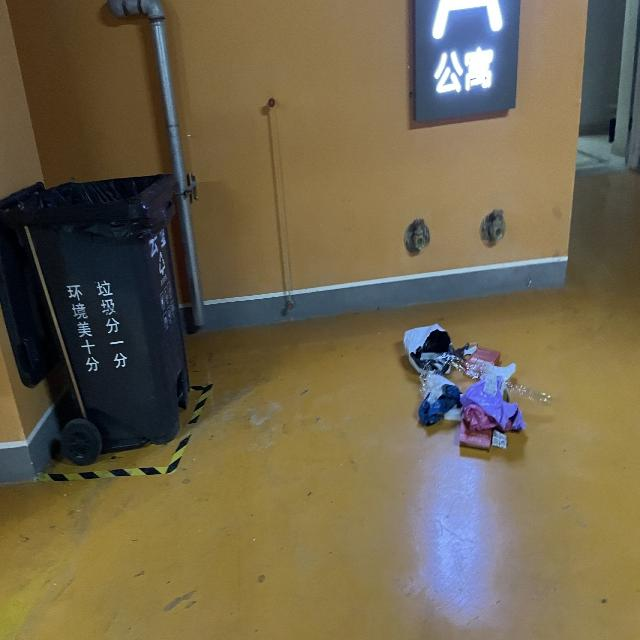garbage: (401, 322, 550, 452)
garbage_bin: (0, 172, 190, 453)
